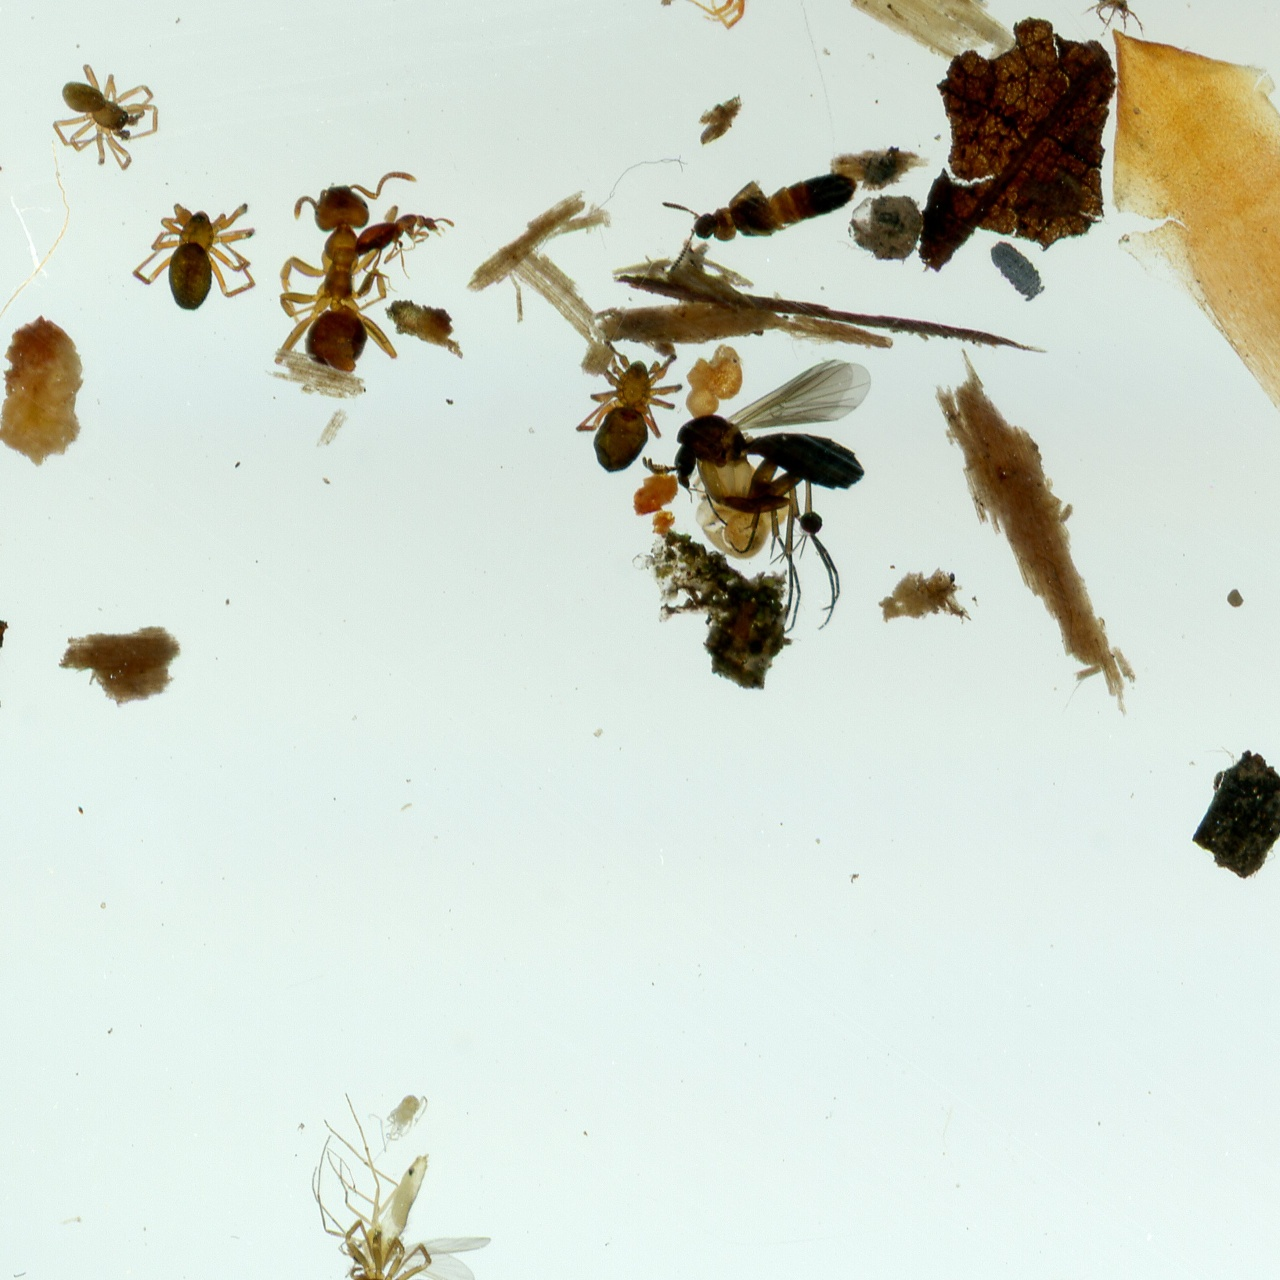arthropod: (638, 353, 879, 634), (261, 1080, 525, 1280), (270, 166, 422, 384), (648, 145, 867, 277), (561, 326, 694, 489), (130, 195, 258, 316), (48, 62, 165, 173), (347, 200, 467, 294), (305, 1211, 467, 1280), (346, 1074, 442, 1172), (981, 231, 1053, 309), (0, 76, 29, 247), (646, 0, 765, 33), (1077, 0, 1148, 39)
